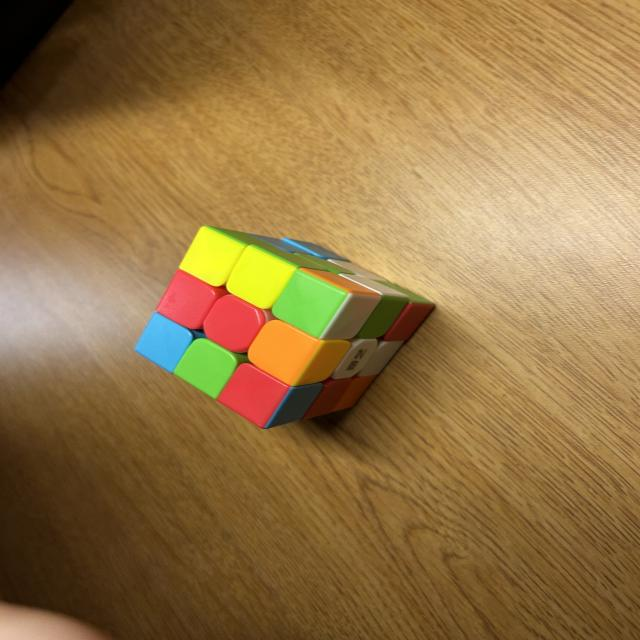Rubiks Cube: (133, 226, 436, 430)
